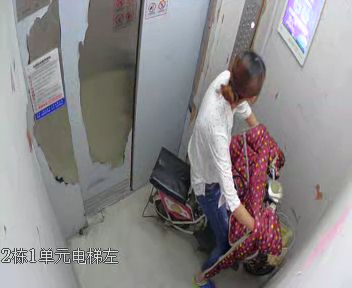Electric-bicycle: (142, 124, 297, 275)
